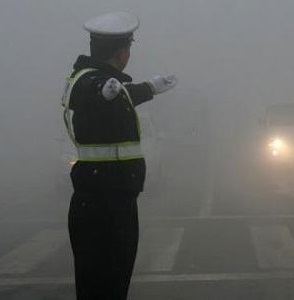person: (61, 10, 182, 300)
